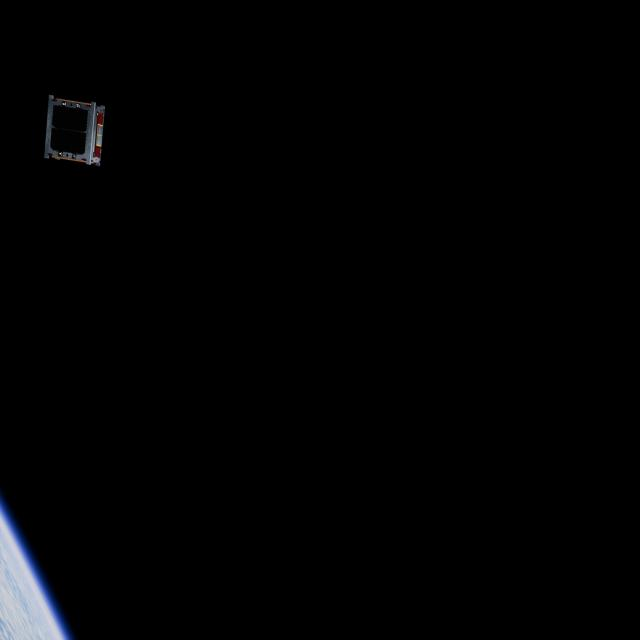satellite: (39, 92, 111, 170)
